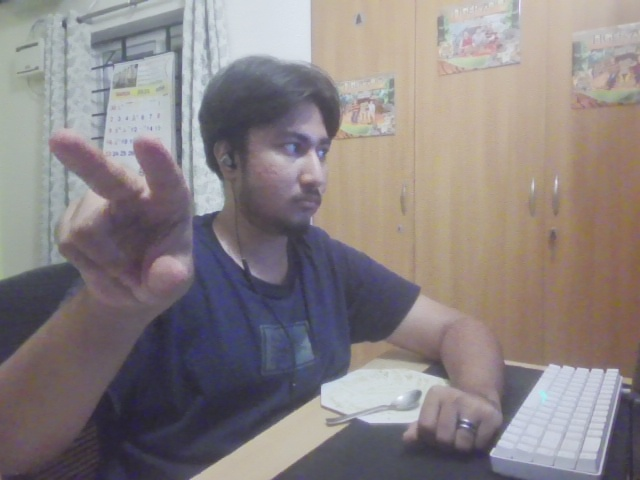no: (32, 122, 224, 316)
